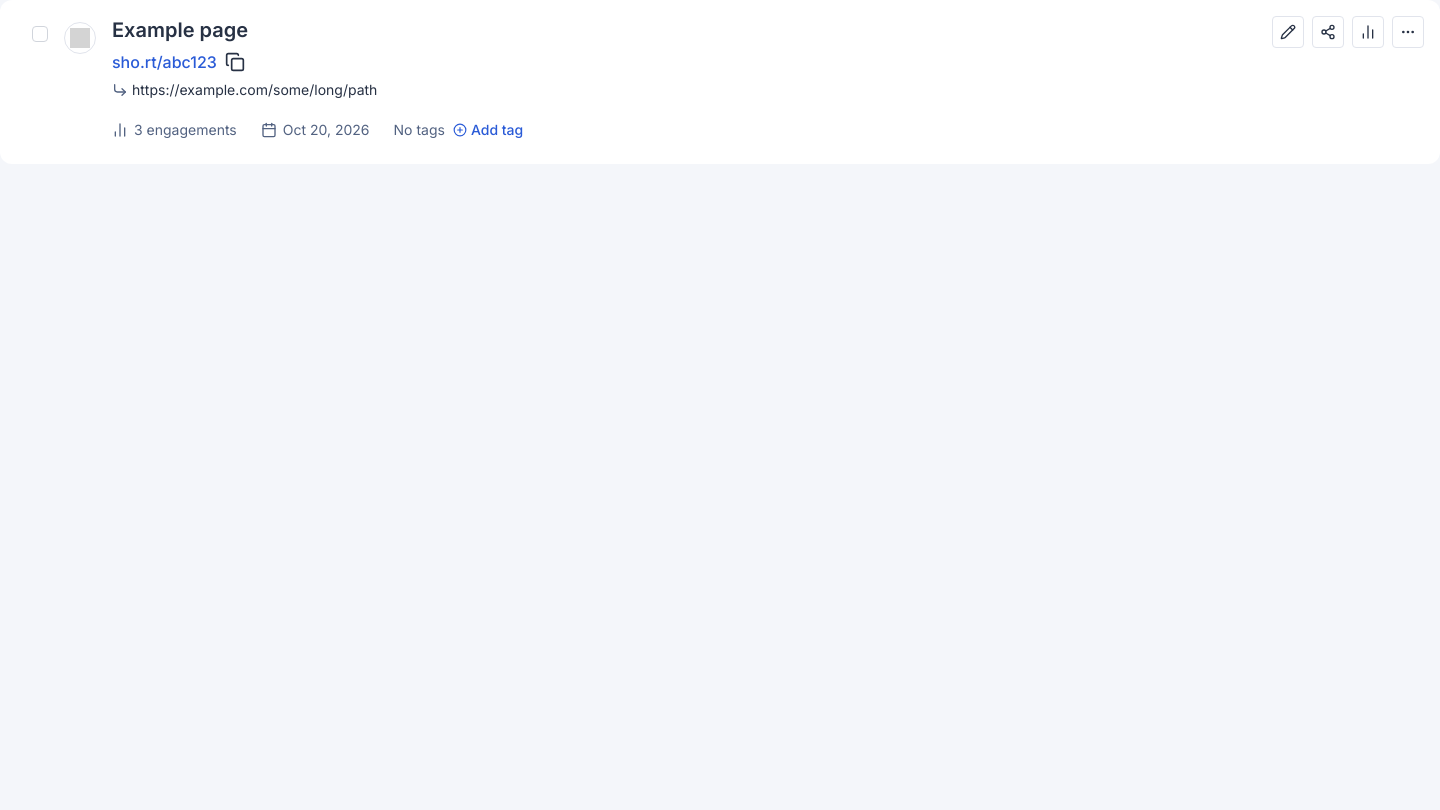
Test: LinkCard › delete confirmation copy with a QR Code
This screenshot has width=1440, height=810.
Click the button named "More" at (1408, 32), box x1=1392 y1=16 x2=1424 y2=48
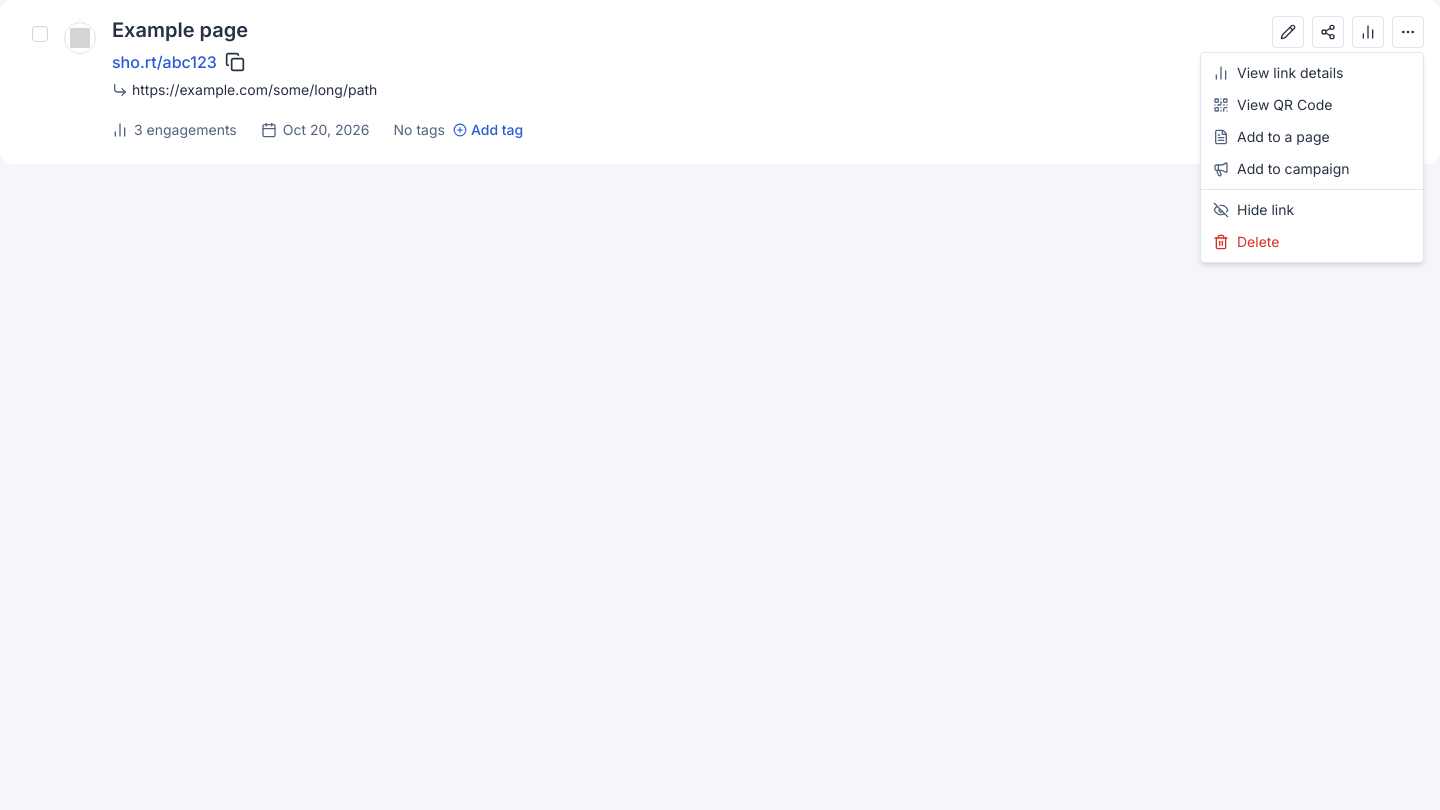
Click the menu item "Delete" at (1246, 242), box x1=1213 y1=233 x2=1279 y2=250
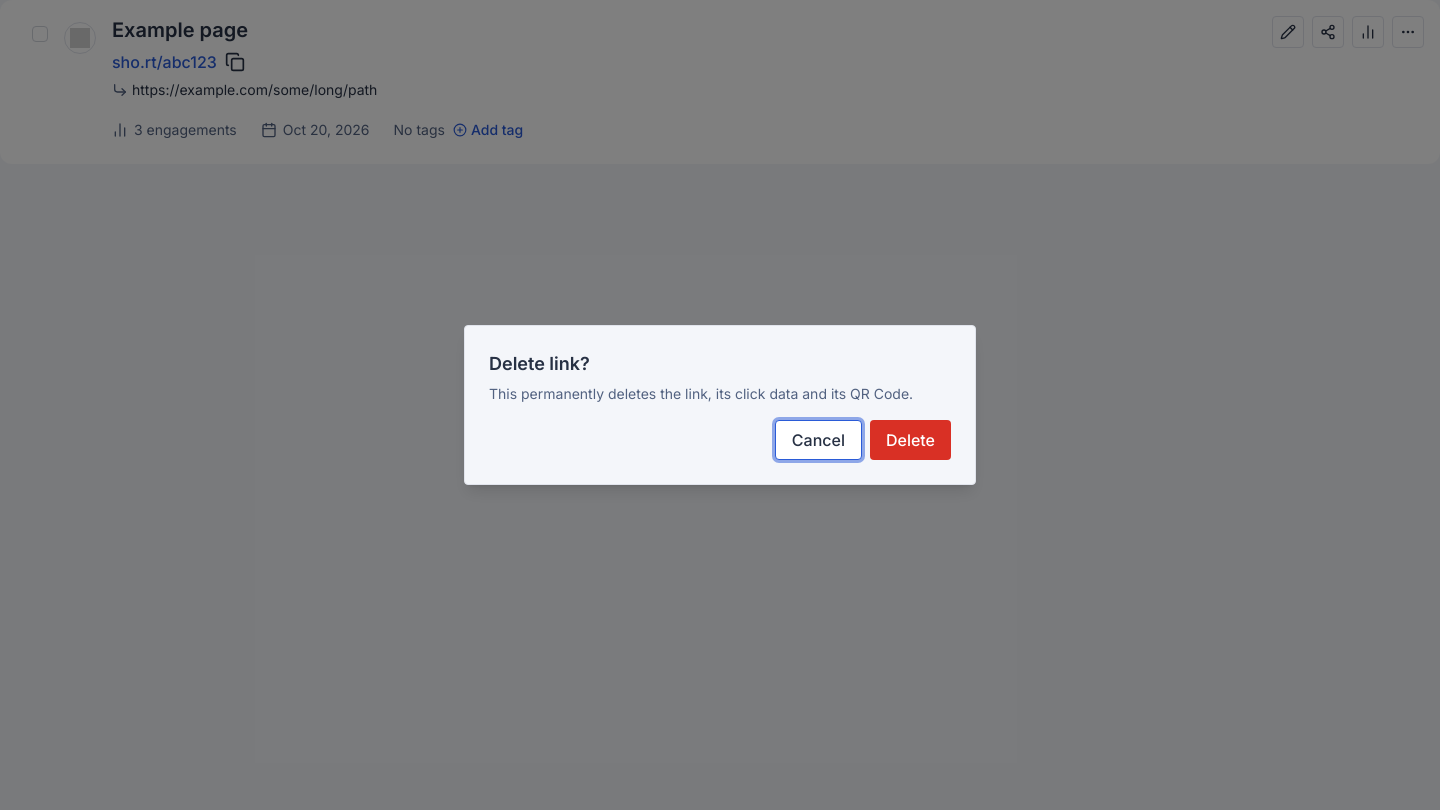
Now the text "This permanently deletes the link, its click data and its QR Code." is shown, box x1=489 y1=384 x2=913 y2=404
